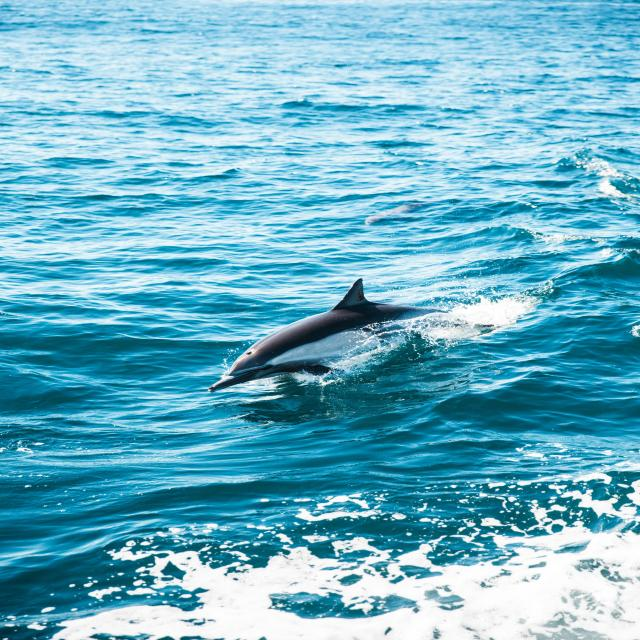penguin: (209, 278, 440, 391)
